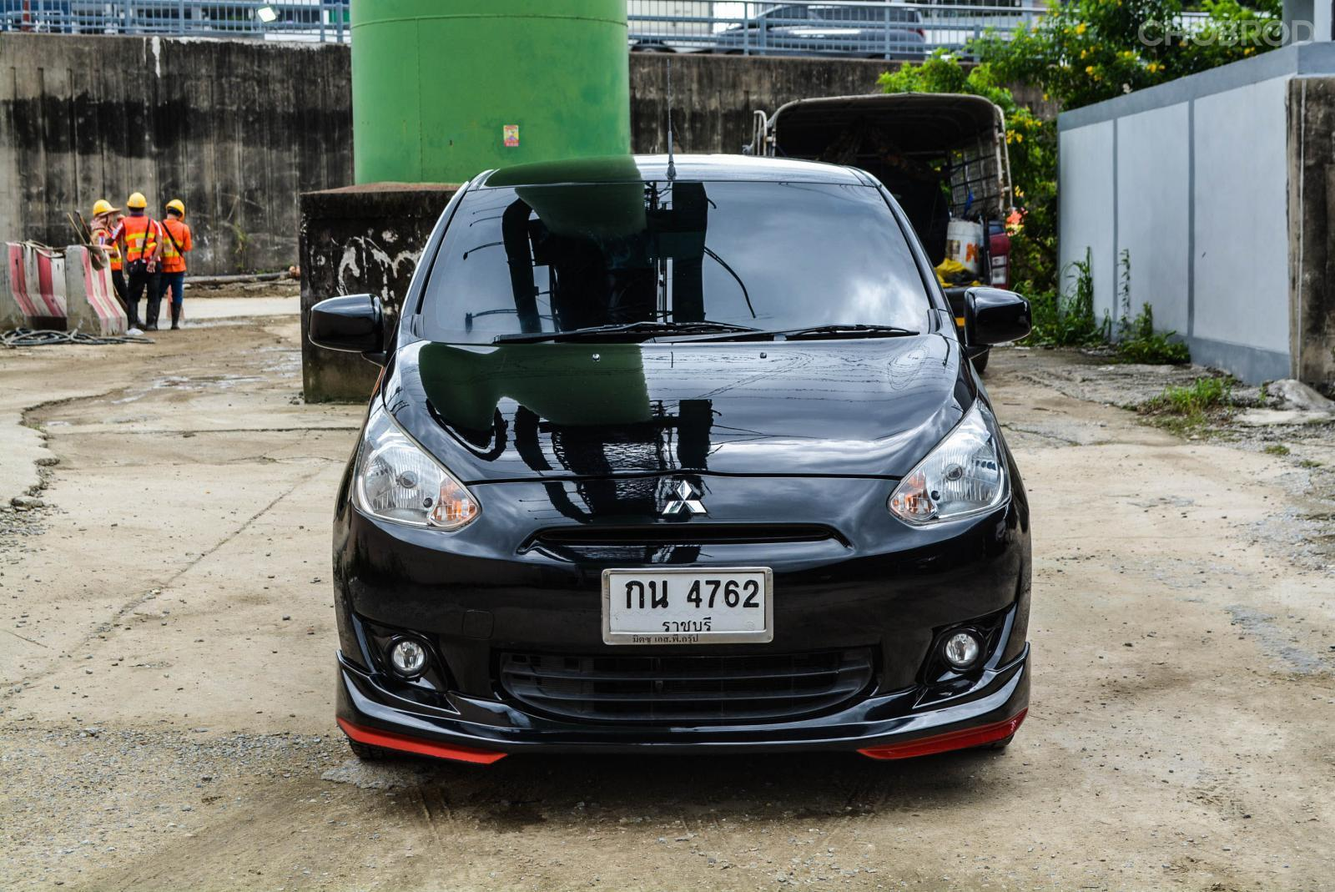license-plate: (599, 564, 779, 648)
